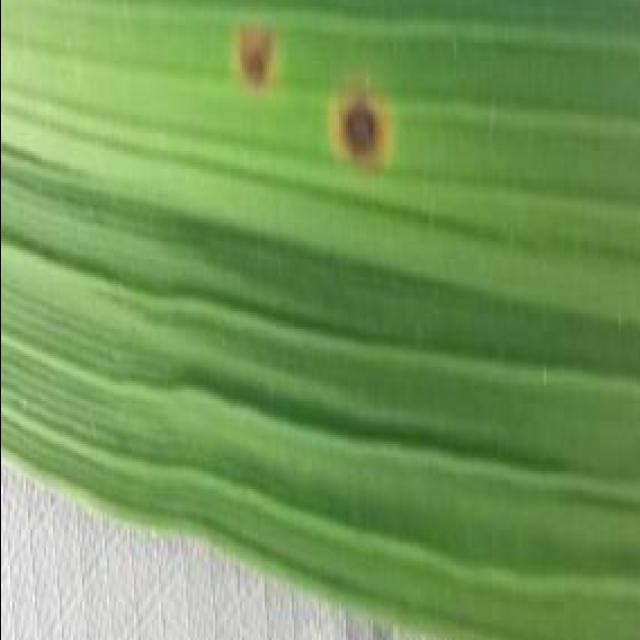Brown_Spot: (304, 48, 408, 194), (214, 9, 298, 106)
